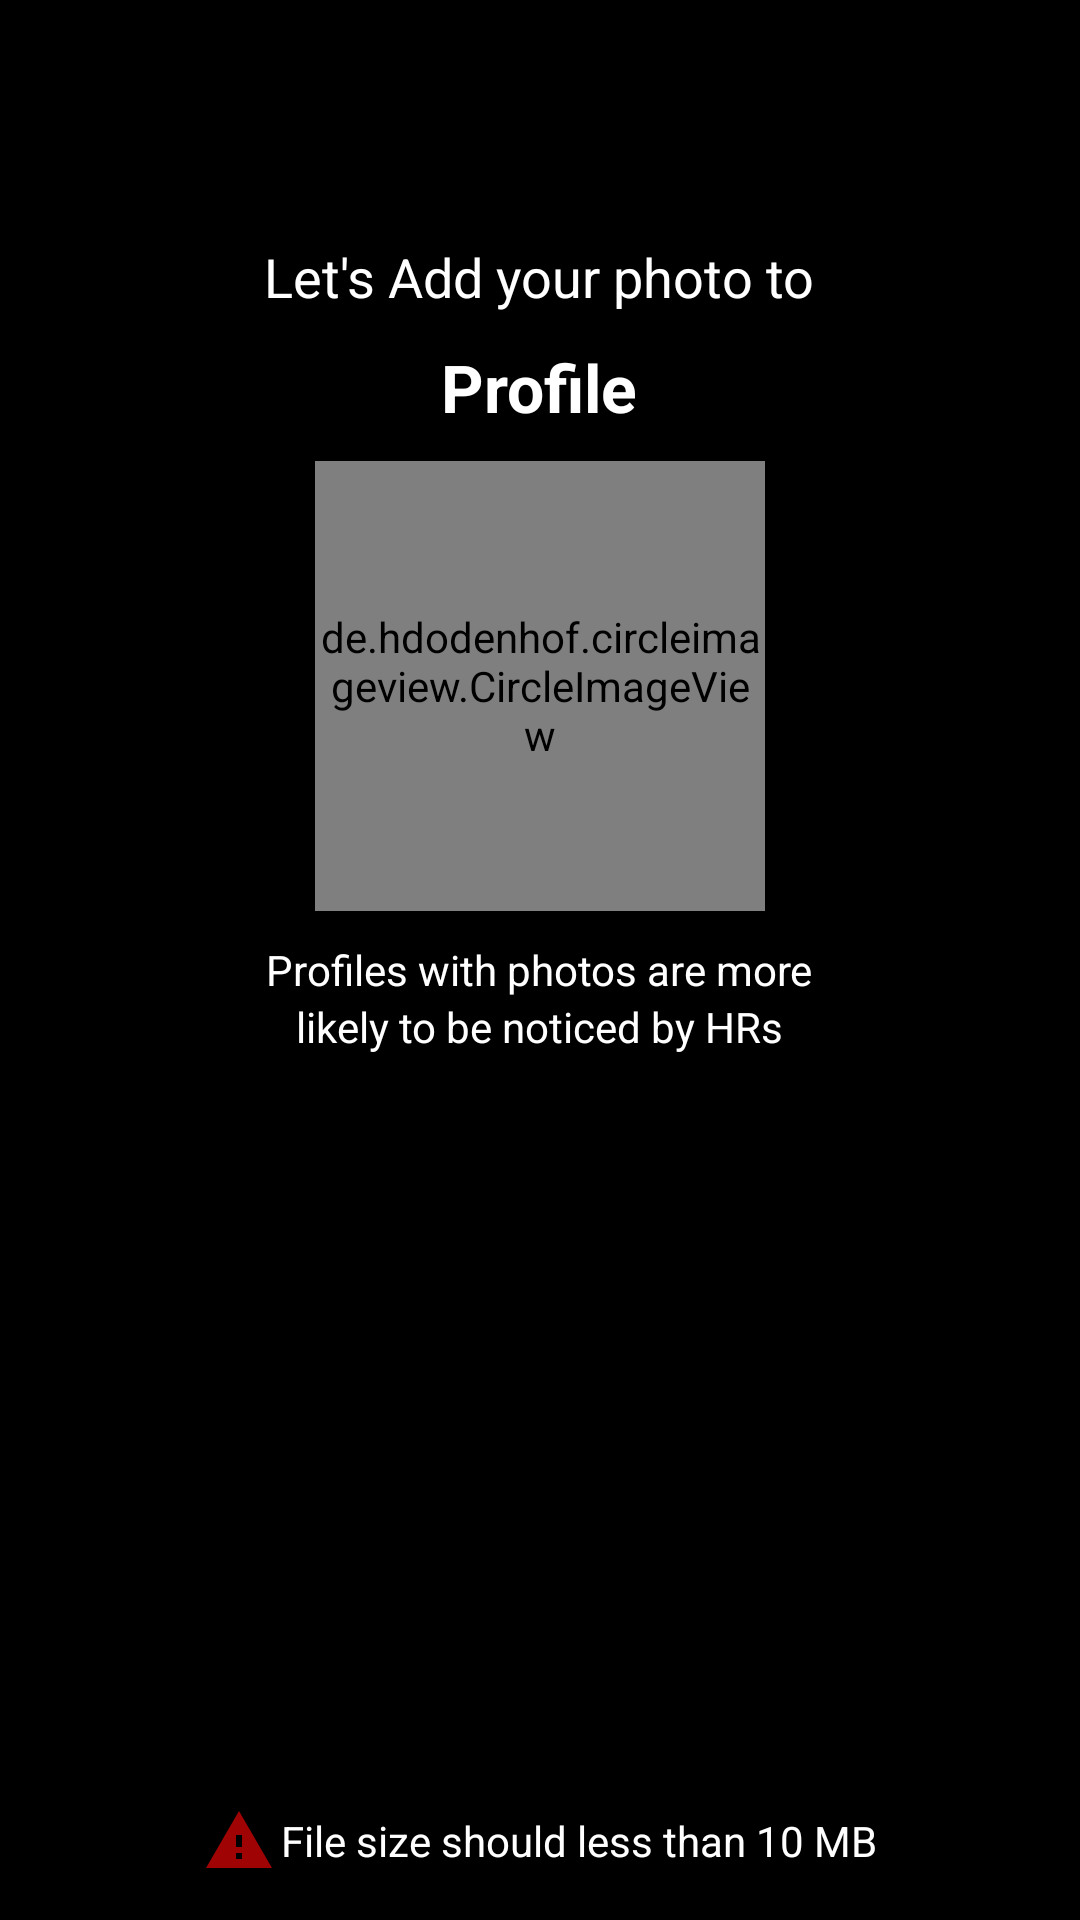

Named icons in this screenshot (1080 × 1920) and their centers, (x=x, y=y):
warning: (x=239, y=1839)
